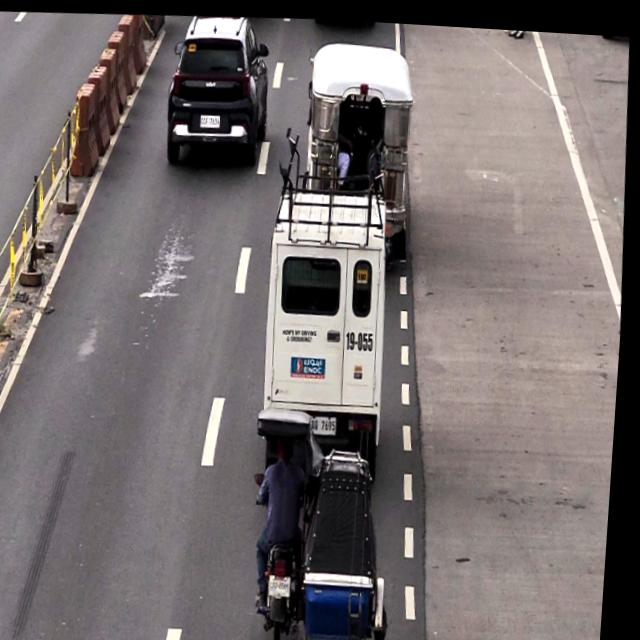Car: (258, 174, 400, 447), (161, 11, 273, 172)
Jeep: (299, 35, 416, 197)
License-Plate: (274, 568, 299, 597), (314, 410, 345, 430), (199, 108, 222, 127)
Tricycle: (243, 402, 406, 640)
